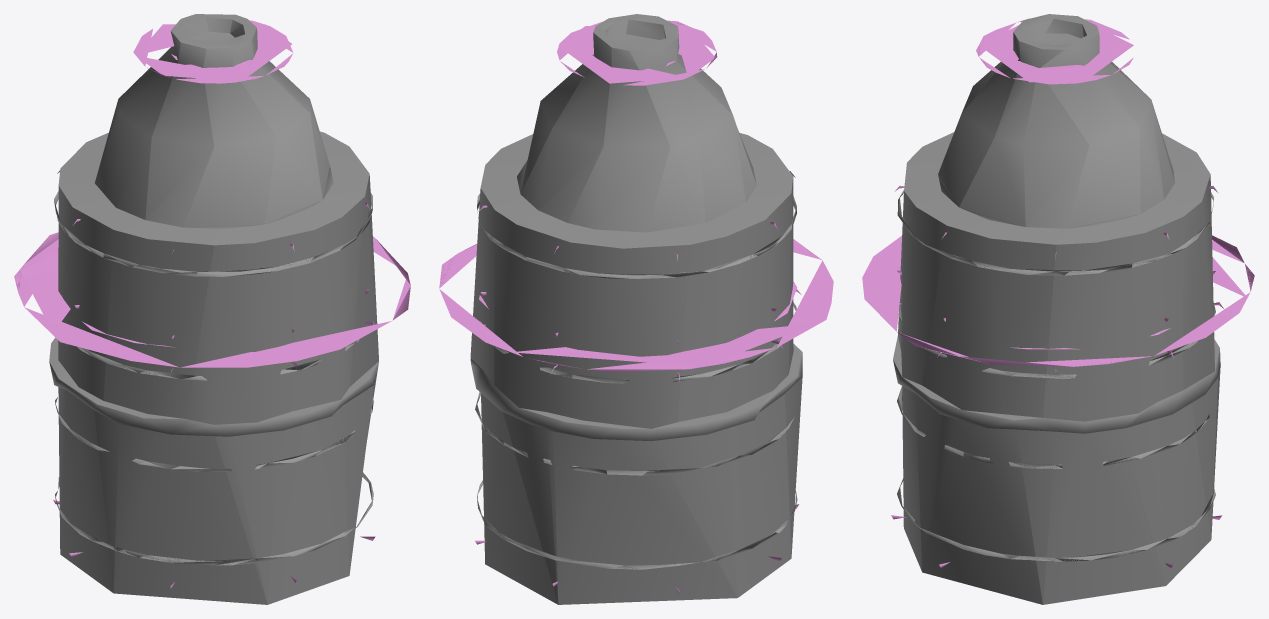
The model's file is main_IceTank_LOD2.fbx.
3 views of the same model, side by side, from view 1: azimuth 30°, elevation 25°; view 2: azimuth 150°, elevation 25°; view 3: azimuth 270°, elevation 25° (orthographic).
Parts seen in each view (by area): view 1: main_IceTank_LOD2 (×2); view 2: main_IceTank_LOD2 (×2); view 3: main_IceTank_LOD2 (×2).
Boxes of the visible parts, box(x1,y1,x2,y2) form: main_IceTank_LOD2 (×2): box(14, 14, 410, 604); main_IceTank_LOD2 (×2): box(439, 14, 833, 604); main_IceTank_LOD2 (×2): box(862, 14, 1254, 604).
Bounding box in the file's own units: 32.16 × 46.2 × 32.35.
